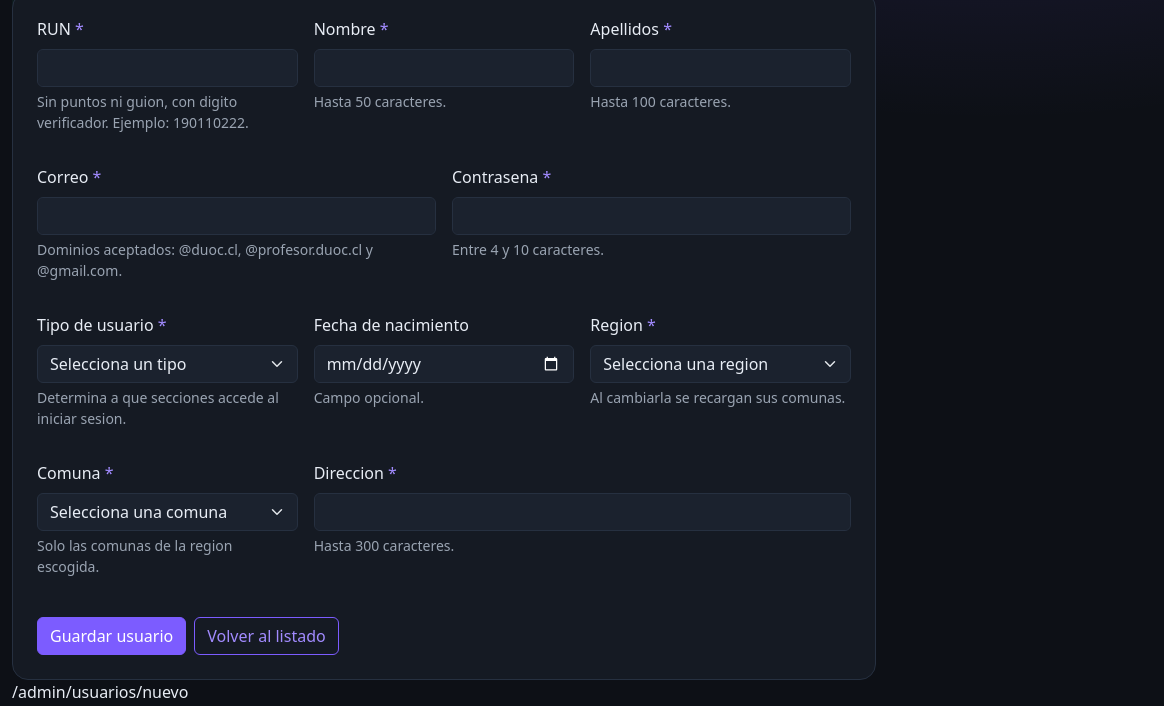
Test: admin / FormularioUsuario › crear › enviar vacio marca los campos obligatorios y no crea el usuario (RF-11 CA2)
(page scrolled)
Click the button "Guardar usuario".
click(112, 636)  # box top-left (37, 617), bottom-right (186, 655)
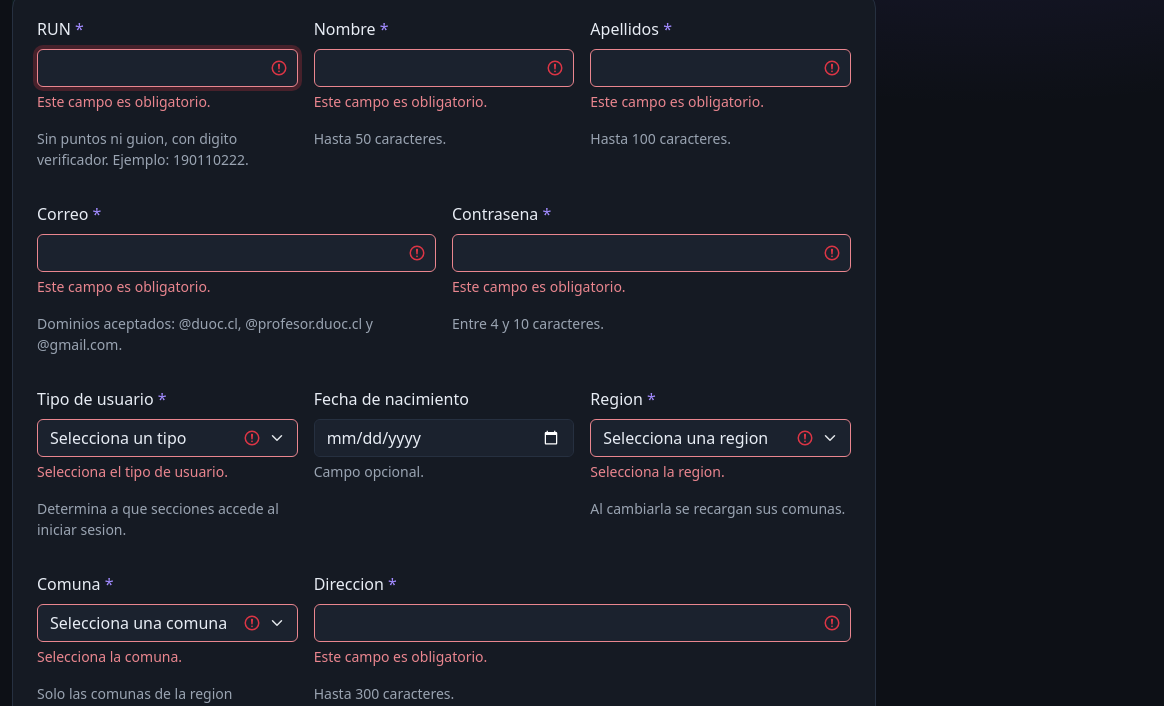
Now the text "Selecciona el tipo de usuario." is shown, box top-left (37, 462), bottom-right (228, 481)
